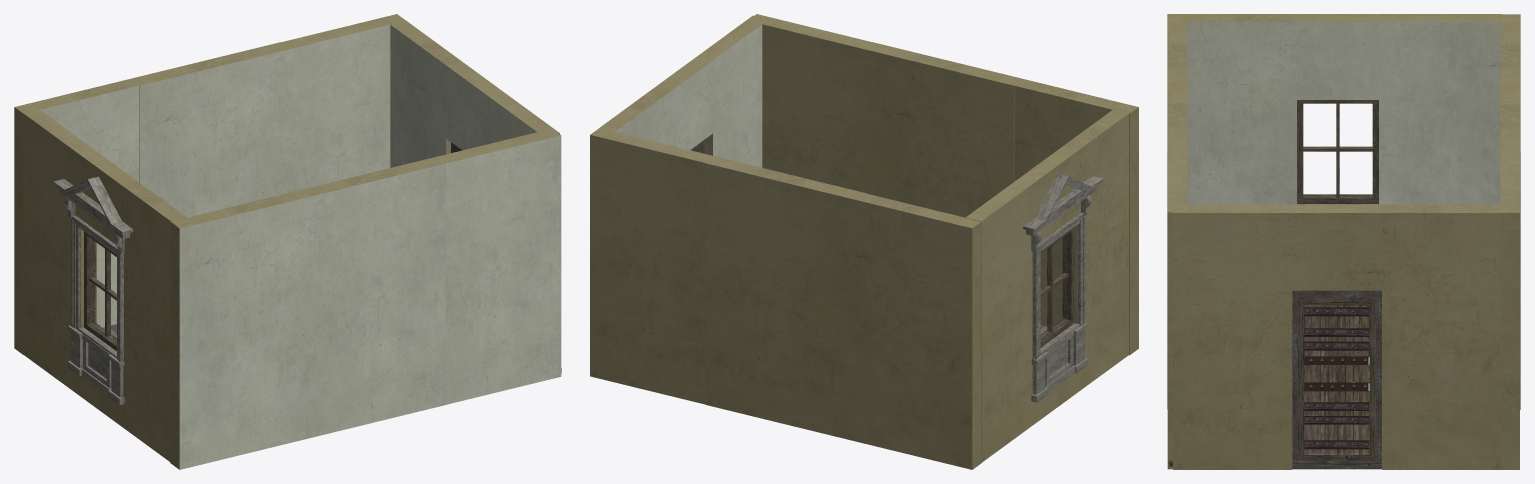
Rendered from Shop_Szene_3.glb.
The picture shows the model from 3 angles, left to right: view 1: azimuth 30°, elevation 25°; view 2: azimuth 150°, elevation 25°; view 3: azimuth 270°, elevation 25°; orthographic projection. The views are drawn at different scales.
Visible parts, largest first — view 1: Wand links 2, Wand rechts 1, Fensterwand, Wand links 1, Türwand, Wand rechts 2, window_old_walls1_poor; view 2: Wand rechts 2, Wand links 1, Fensterwand, Wand rechts 1, Türwand, Wand links 2, window_old_walls1_poor; view 3: Türwand, Fensterwand, Tür, Wand rechts 1, Wand links 1, window_old_walls1_poor, Wand rechts 2, Wand links 2, Boden.
Part boxes in pixels (left/top/right/bottom): Wand links 2: left=170, top=163, right=446, bottom=469; Wand rechts 1: left=131, top=14, right=405, bottom=217; Fensterwand: left=23, top=109, right=192, bottom=461; Wand links 1: left=286, top=132, right=561, bottom=404; Türwand: left=390, top=20, right=559, bottom=167; Wand rechts 2: left=14, top=42, right=280, bottom=354; window_old_walls1_poor: left=84, top=231, right=116, bottom=351; Wand rechts 2: left=705, top=163, right=981, bottom=469; Wand links 1: left=754, top=14, right=1023, bottom=217; Fensterwand: left=965, top=105, right=1134, bottom=462; Wand rechts 1: left=590, top=128, right=865, bottom=404; Türwand: left=599, top=15, right=768, bottom=167; Wand links 2: left=876, top=43, right=1138, bottom=355; window_old_walls1_poor: left=1040, top=227, right=1074, bottom=347; Türwand: left=1173, top=204, right=1500, bottom=469; Fensterwand: left=1174, top=14, right=1501, bottom=204; Tür: left=1292, top=290, right=1381, bottom=469; Wand rechts 1: left=1500, top=74, right=1519, bottom=469; Wand links 1: left=1167, top=73, right=1187, bottom=469; window_old_walls1_poor: left=1297, top=100, right=1378, bottom=203; Wand rechts 2: left=1501, top=14, right=1520, bottom=409; Wand links 2: left=1167, top=14, right=1186, bottom=409; Boden: left=1168, top=460, right=1381, bottom=466.
Bounding box in the file's own units: 5.38 × 3.15 × 3.92.
Materials: 17 (17 with a texture image).
